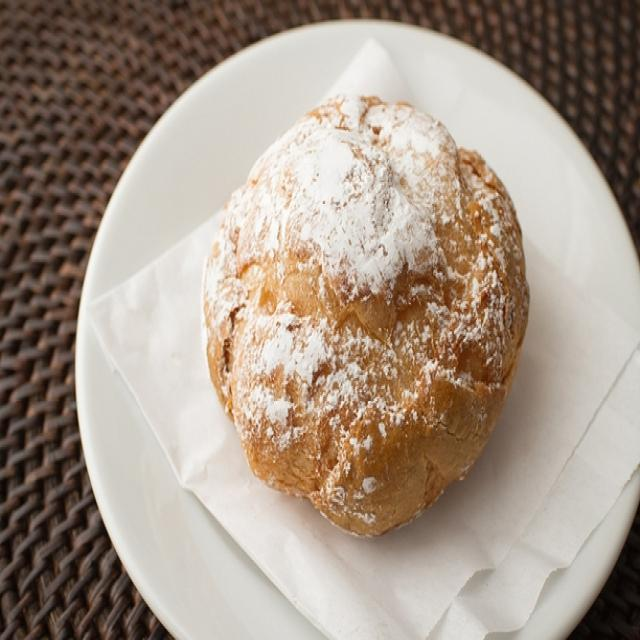炸货点心: (69, 24, 612, 602)
蛋糕甜品: (69, 24, 612, 602)
